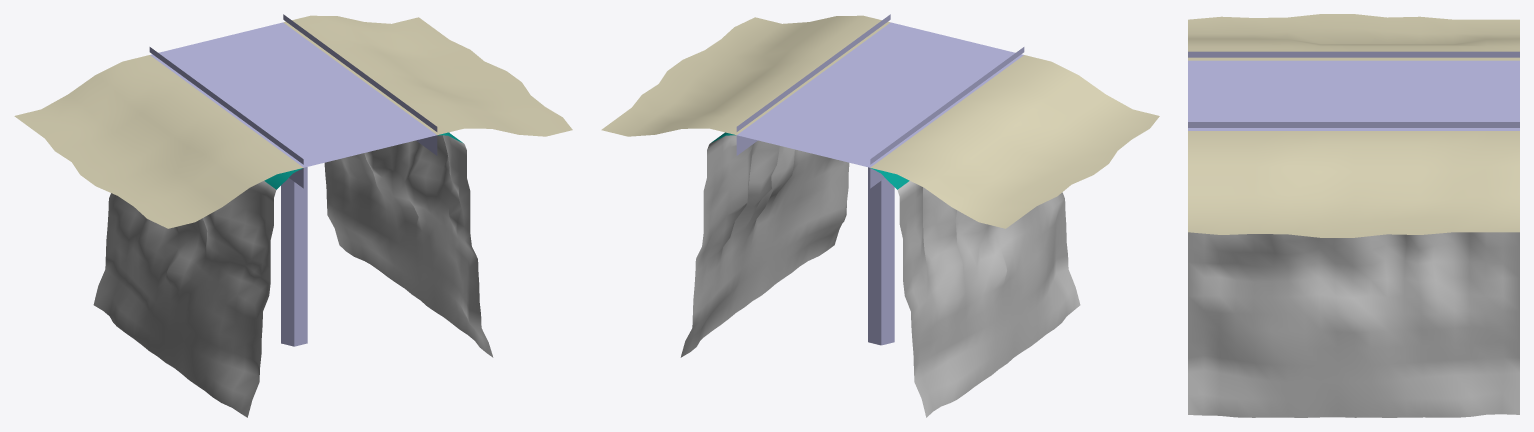
3 views of the same model, side by side, from view 1: azimuth 30°, elevation 25°; view 2: azimuth 150°, elevation 25°; view 3: azimuth 270°, elevation 25° (orthographic). The views are drawn at different scales.
Parts seen in each view (by area): view 1: cliff_1, sand_1, cliff_2, Mesh, sand_2, pylon, guardRail_1, guardRail_2; view 2: cliff_1, sand_1, cliff_2, Mesh, sand_2, pylon, guardRail_1, guardRail_2; view 3: cliff_2, sand_2, Mesh, sand_1, guardRail_1, guardRail_2.
Boxes of the visible parts, x1,y1,x2,y2 form: cliff_1: (93, 168, 302, 417); sand_1: (14, 55, 303, 228); cliff_2: (324, 132, 493, 357); Mesh: (150, 22, 436, 167); sand_2: (283, 15, 572, 136); pylon: (281, 135, 437, 346); guardRail_1: (149, 47, 303, 164); guardRail_2: (283, 14, 437, 131); cliff_1: (871, 168, 1080, 417); sand_1: (870, 55, 1159, 228); cliff_2: (680, 132, 849, 357); Mesh: (737, 22, 1023, 167); sand_2: (601, 15, 890, 136); pylon: (736, 135, 894, 345); guardRail_1: (870, 47, 1024, 164); guardRail_2: (736, 14, 890, 131); cliff_2: (1188, 232, 1519, 417); sand_2: (1188, 131, 1519, 237); Mesh: (1188, 60, 1519, 130); sand_1: (1188, 14, 1519, 60); guardRail_1: (1188, 51, 1519, 57); guardRail_2: (1188, 122, 1519, 127).
Size of the model in its own units: 31.93 by 18.1 by 20.
